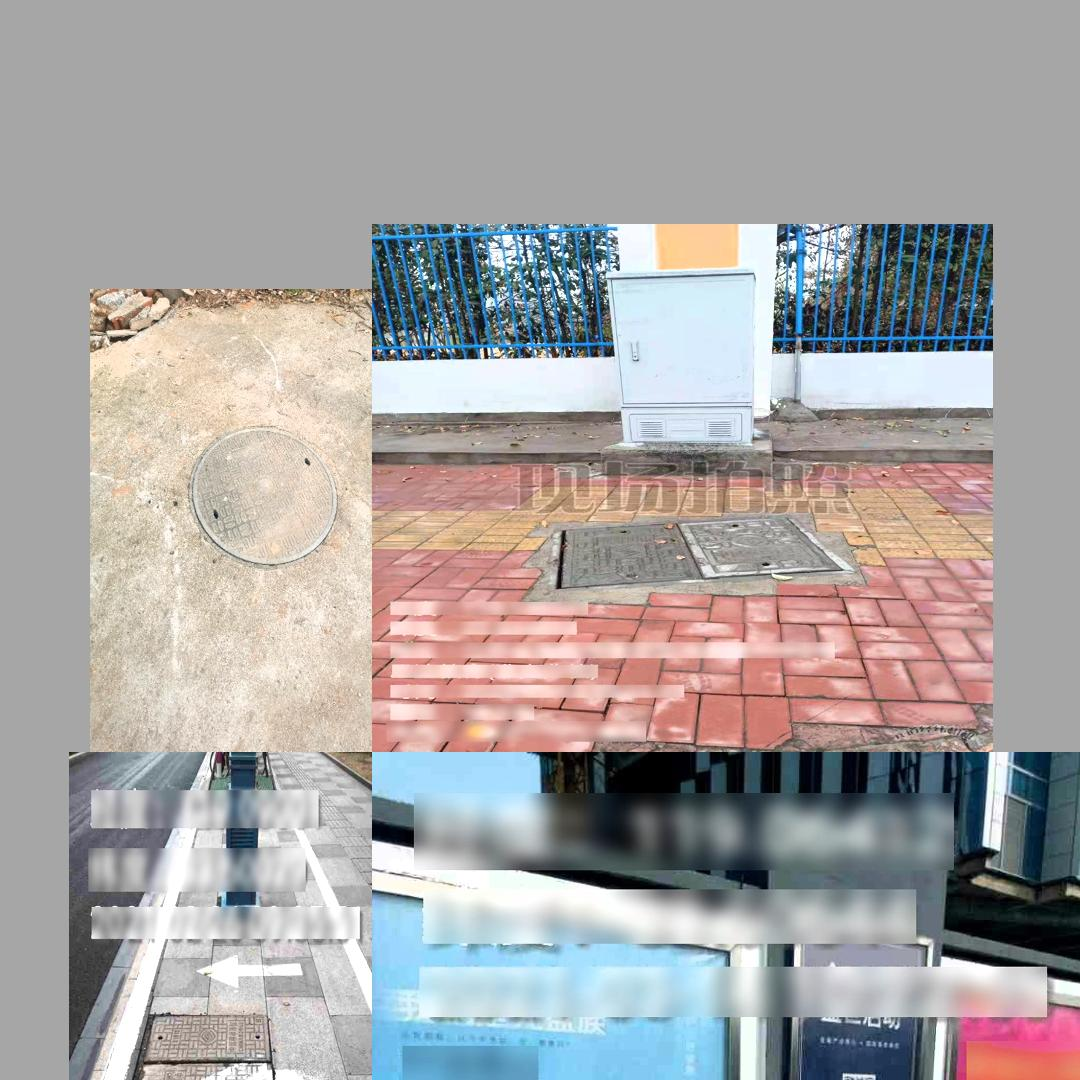good: (550, 510, 842, 584), (188, 427, 338, 567), (100, 1007, 289, 1080)
